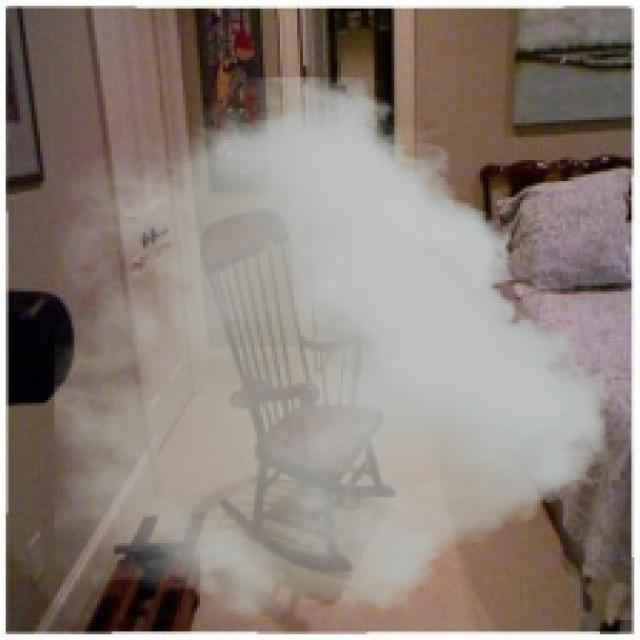smoke: (54, 77, 609, 620)
